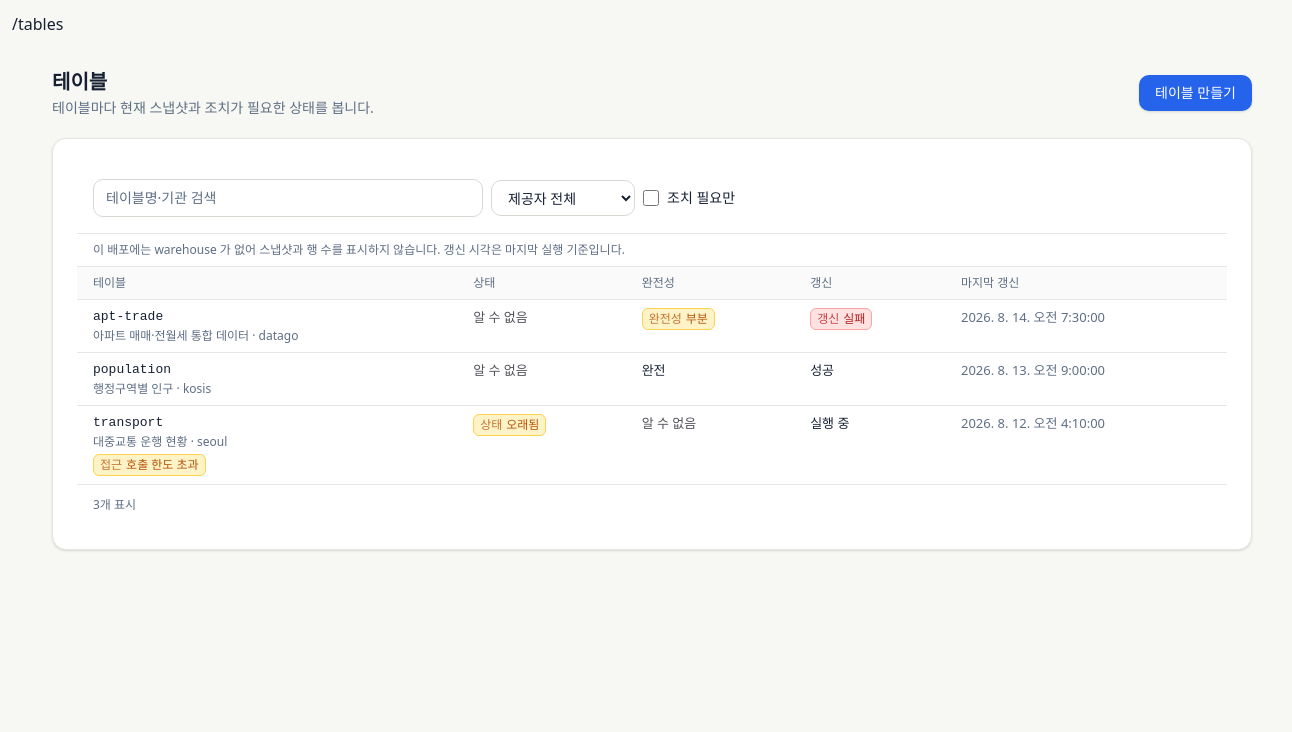
Scenario: Tables without a warehouse (mock deployment) › filters a multi-source table by its shared provider
Expected: the text "apt-trade" is shown, [93,309,163,324]
Select "datago" in the dropdown named "제공자": (563, 198) [491,180,635,216]
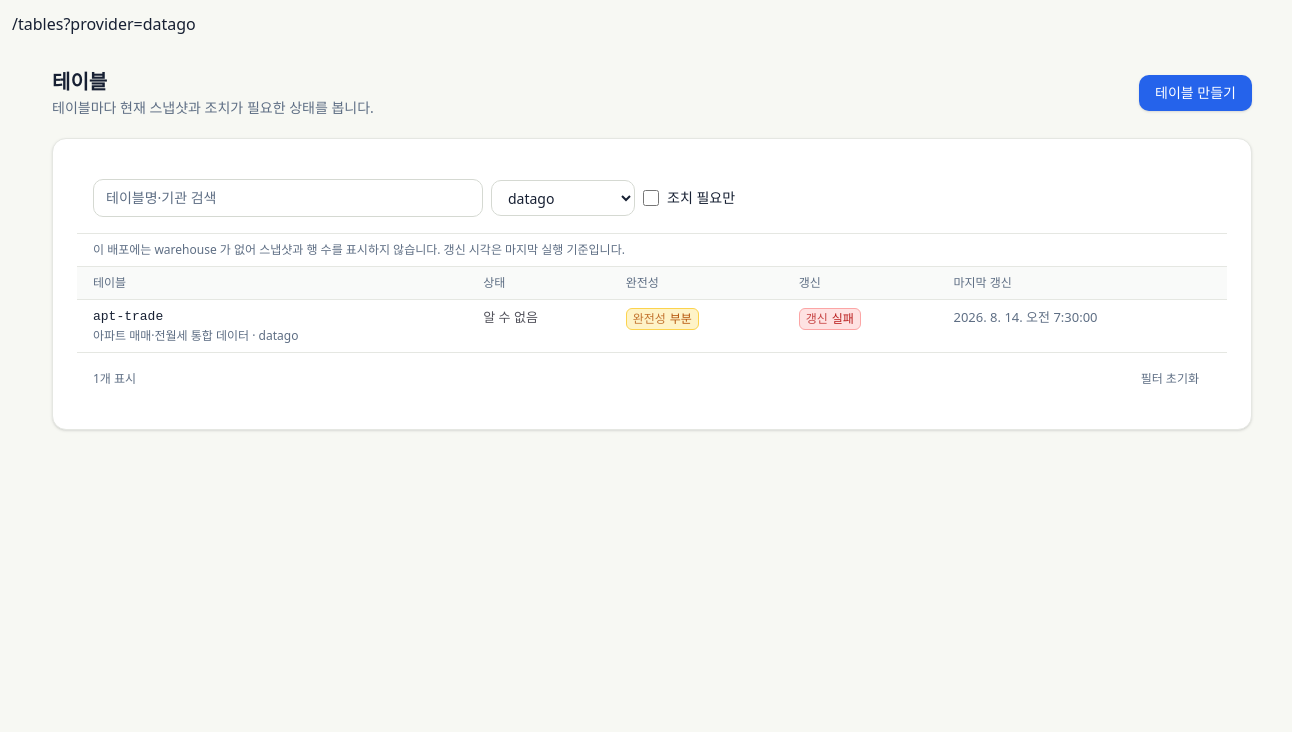
Expected: the text "apt-trade" is shown, [93,309,163,324]
Now the link "population" is gone
